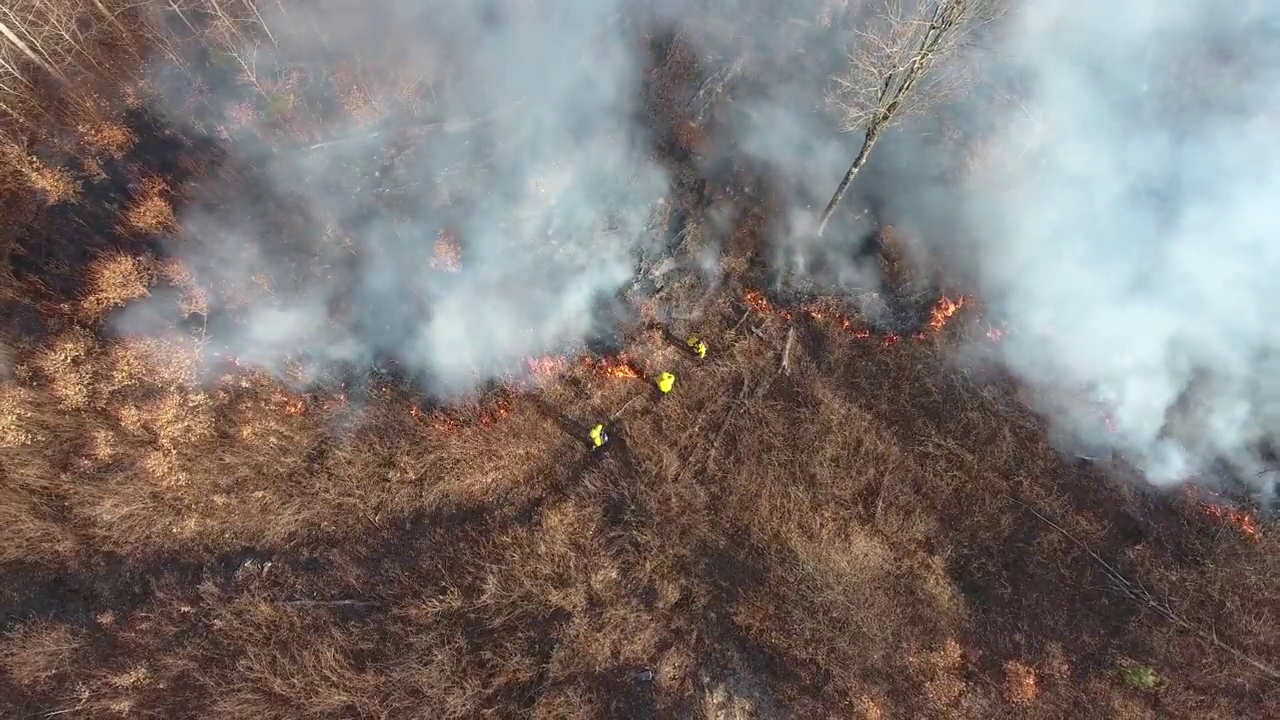forest_fire: (743, 291, 965, 346), (582, 355, 673, 393), (1204, 504, 1260, 536), (530, 358, 559, 373), (686, 336, 704, 359)
